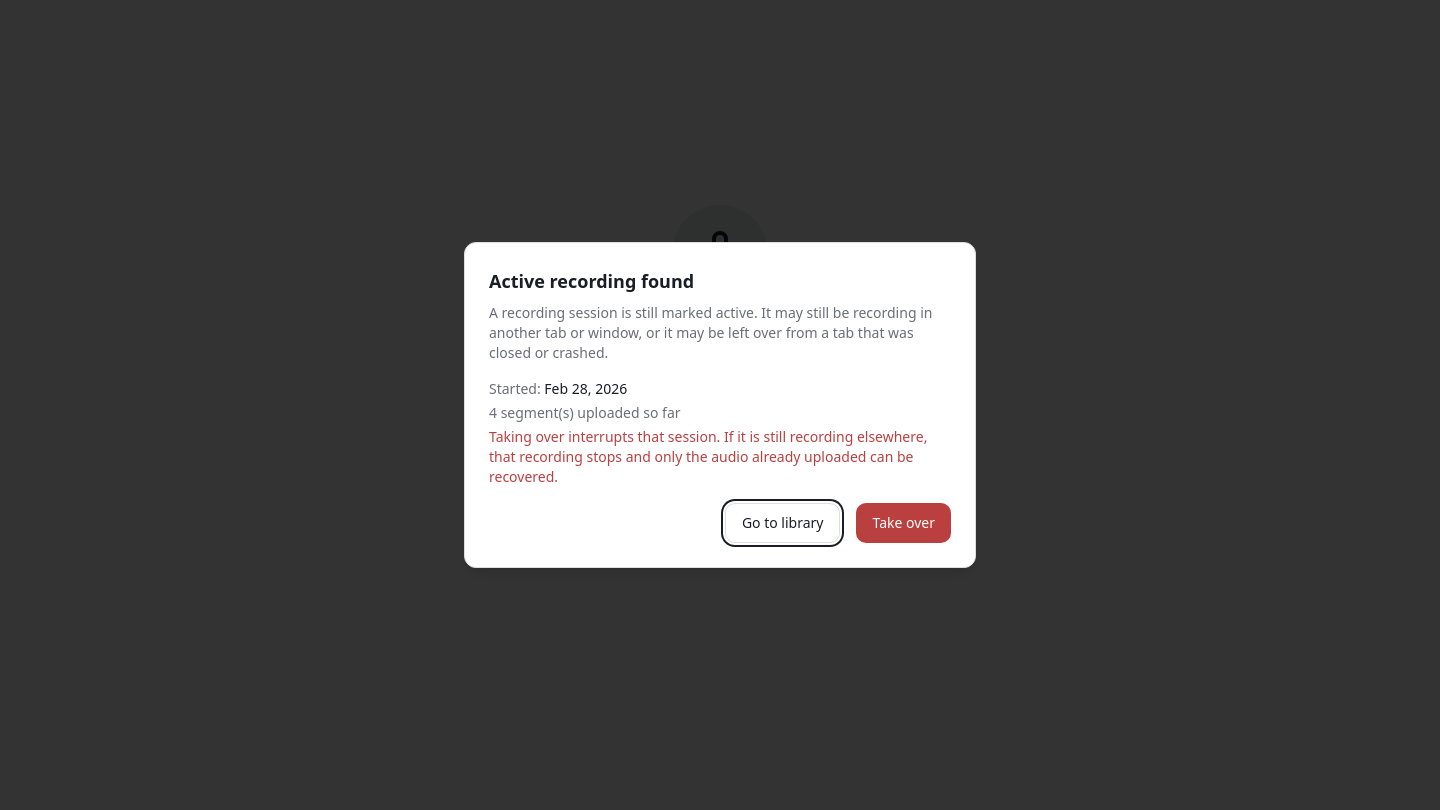
RecordingPage active session takeover › releases the session only after the user takes over
What coordinates should you click on to do the following:
click the button "Take over"
I would click on:
 (904, 523)
Its box is [856,503,951,543].
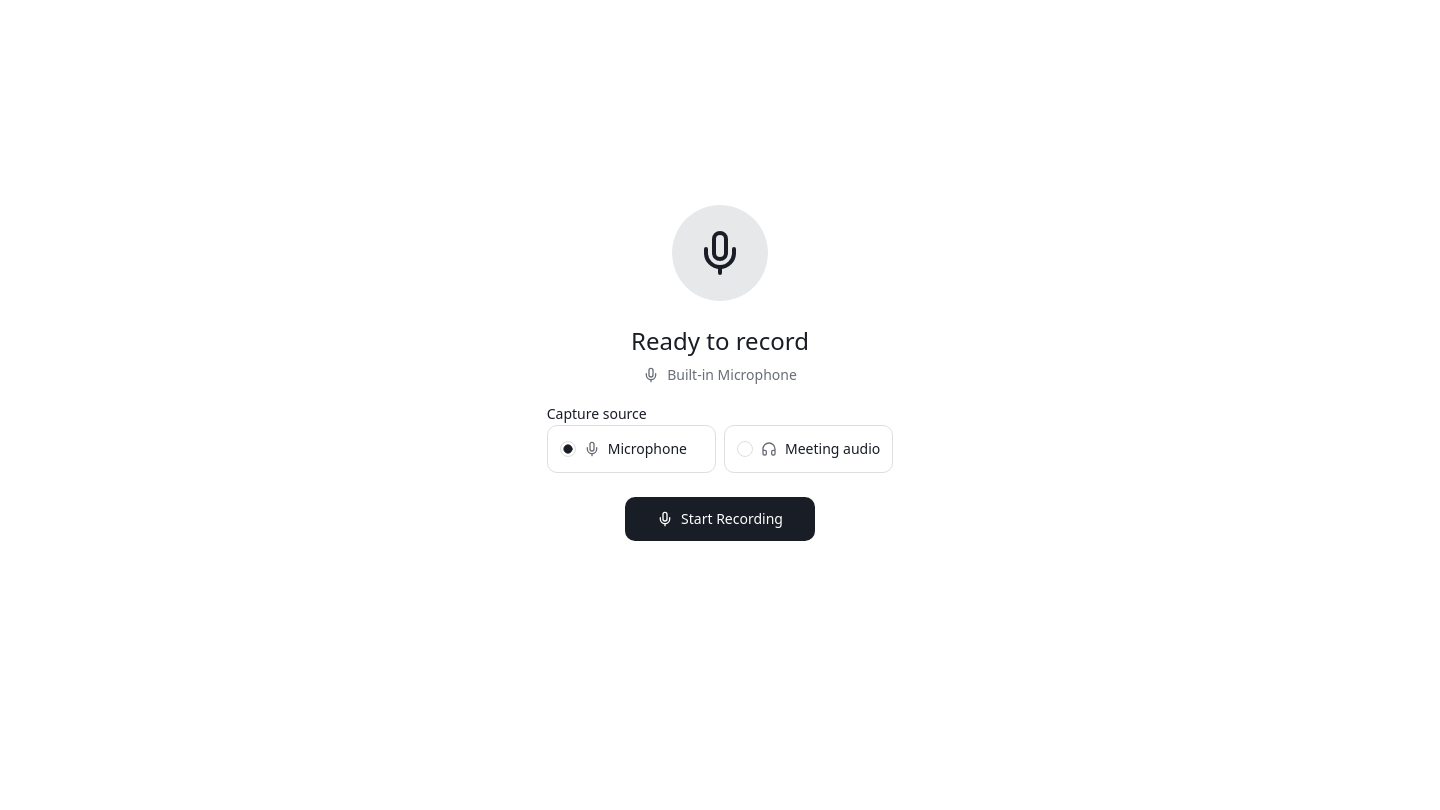
Now the heading "Active recording found" is gone
